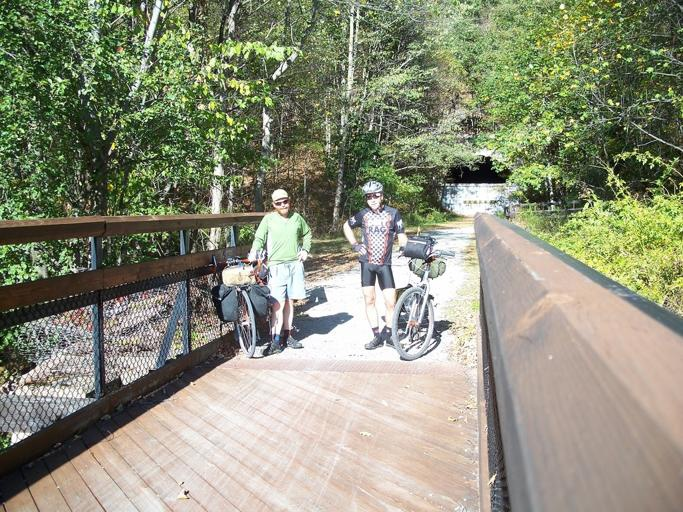non-vehicle: (390, 234, 454, 360), (207, 248, 271, 357)
